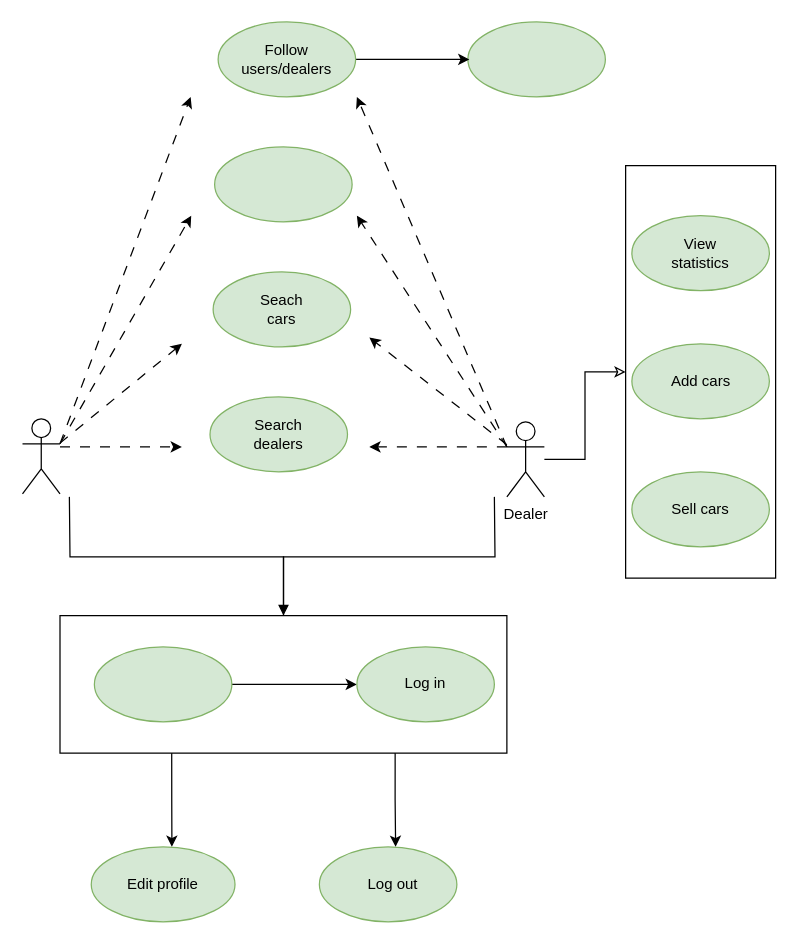
Some shapes in this 798 by 944 pixel diagram are drawn without their labels. The box of each missing label's shape, as (x1, y1, x2, y2) in pixels:
Add as favourite: (213, 146, 352, 222)
Sign Up: (93, 646, 232, 722)
User: (21, 418, 60, 494)
View followed users/dealers' cars: (467, 21, 605, 97)
